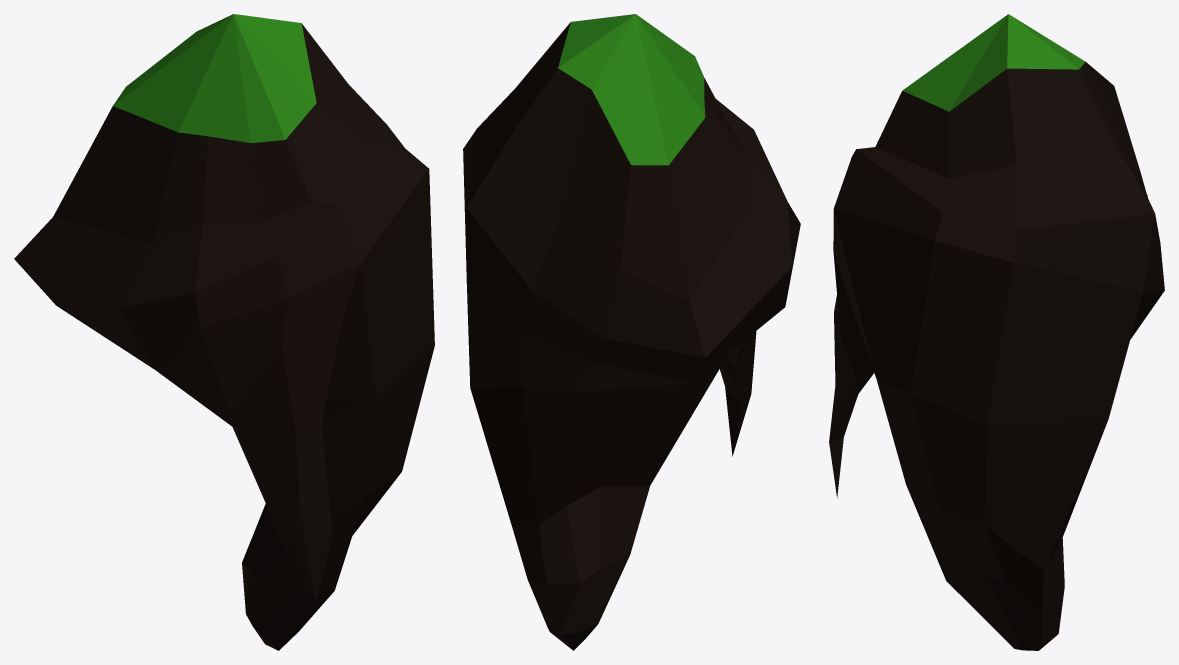
File: Island3.FBX
3 views of the same model, side by side, from view 1: azimuth 30°, elevation 25°; view 2: azimuth 150°, elevation 25°; view 3: azimuth 270°, elevation 25° (orthographic). The views are drawn at different scales.
Parts seen in each view (by area): view 1: Mesh_Island_003; view 2: Mesh_Island_003; view 3: Mesh_Island_003.
Part boxes in pixels (x1,y1,x2,y2): Mesh_Island_003: [14, 14, 434, 650]; Mesh_Island_003: [463, 14, 800, 650]; Mesh_Island_003: [829, 14, 1164, 650].
Bounding box in the file's own units: 226 × 442 × 219.
